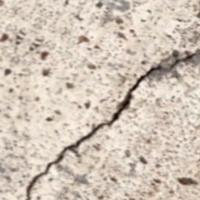crack: (22, 38, 199, 199)
